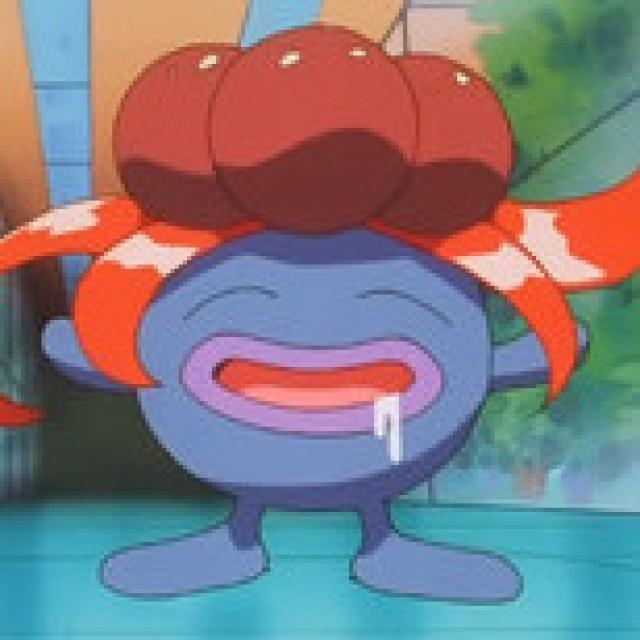Gloom: (57, 111, 557, 546)
